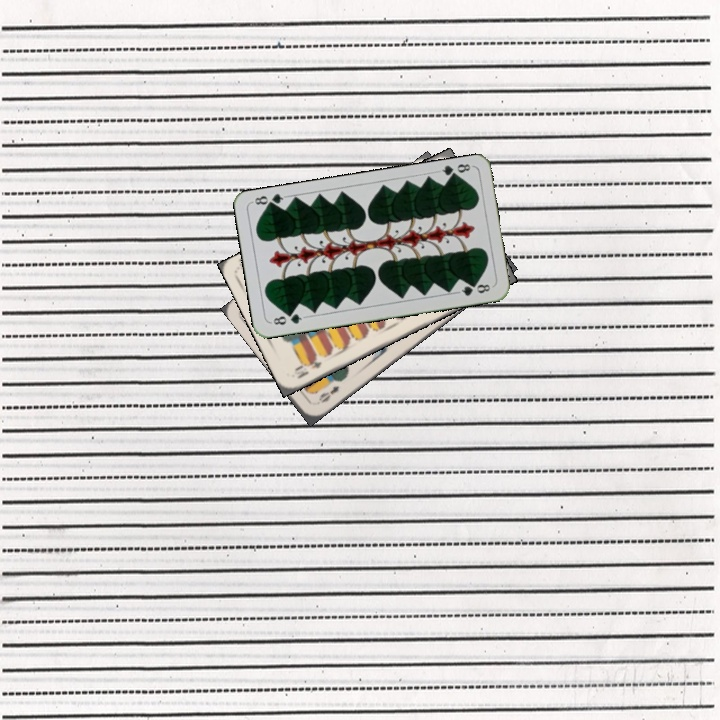E10: (291, 354, 324, 382)
EO: (314, 381, 342, 406)
G8: (434, 160, 474, 182), (267, 309, 308, 327)
